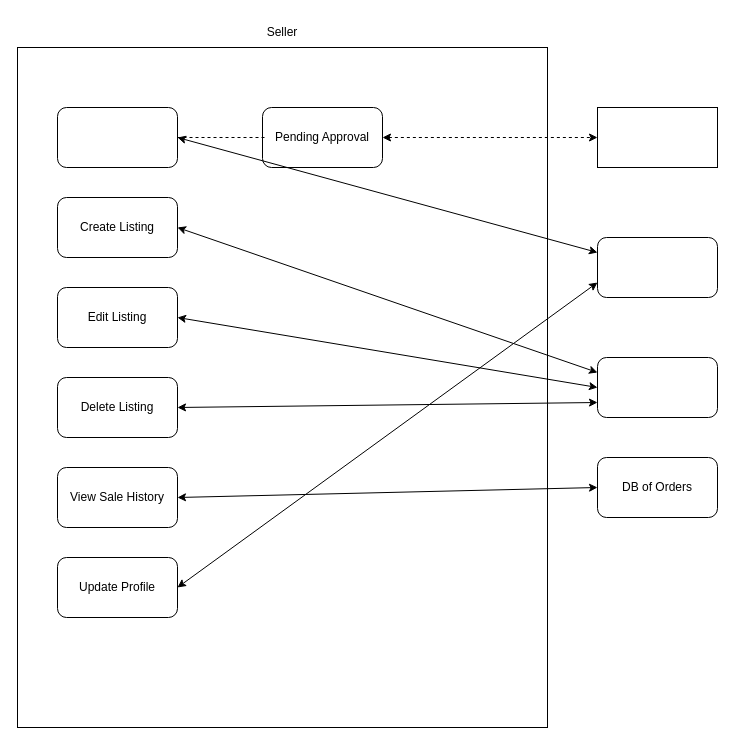
The diagram is 735 pixels wide and 745 high, and some of its shapes have lost their labels. The centre of each missing label's shape, as x and y in pixels:
Admin: point 657,137
DB of Listings: point 657,387
DB of Users: point 657,267
Seller Onboarding: point 117,137
